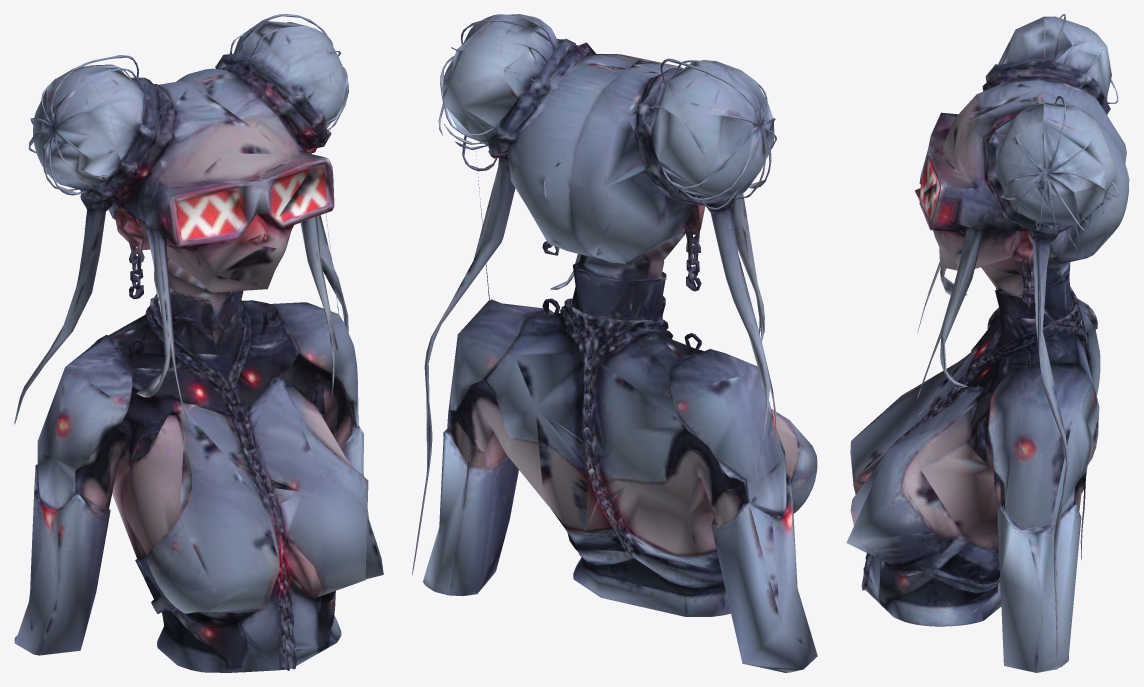
Rendered from girl-22.glb.
The picture shows the model from 3 angles, left to right: view 1: azimuth 30°, elevation 25°; view 2: azimuth 150°, elevation 25°; view 3: azimuth 270°, elevation 25°; orthographic projection. The views are drawn at different scales.
Parts seen in each view (by area): view 1: material; view 2: material; view 3: material.
Part boxes in pixels (<box>): material: <box>14,14,383,672</box>; material: <box>412,14,817,672</box>; material: <box>846,14,1129,672</box>.
Size of the model in its own units: 0.6687 by 0.9744 by 0.4743.
1 material, 1 textured.
